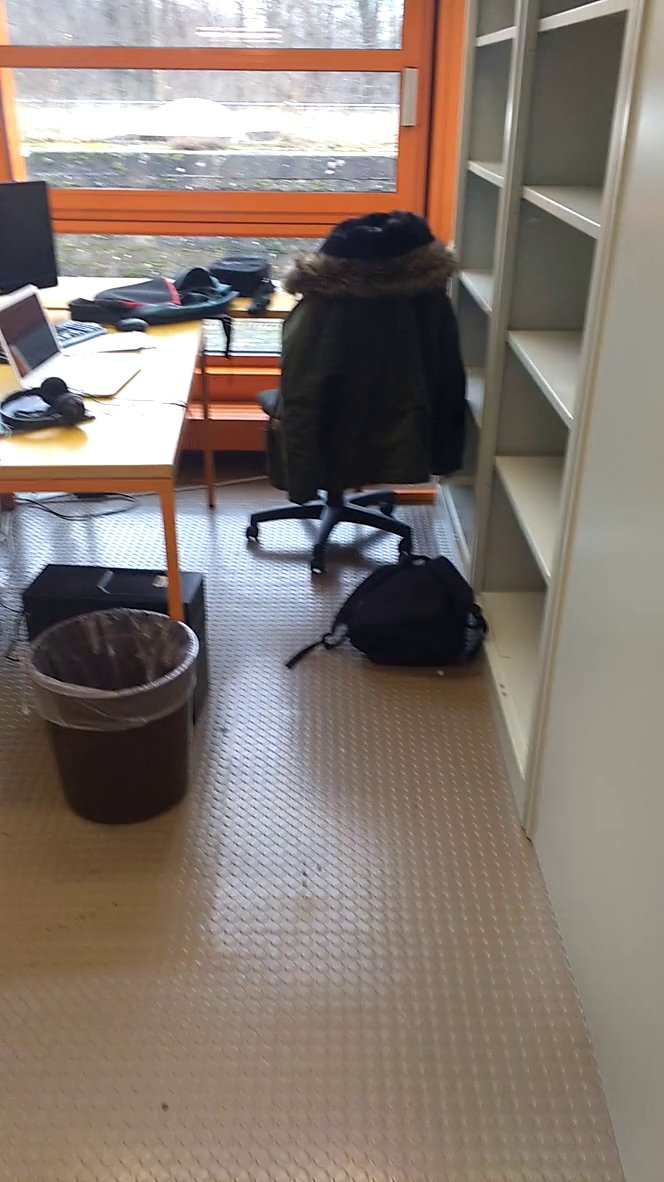bag: (276, 539, 499, 690)
bin: (15, 597, 220, 837)
laptop: (1, 278, 148, 402)
